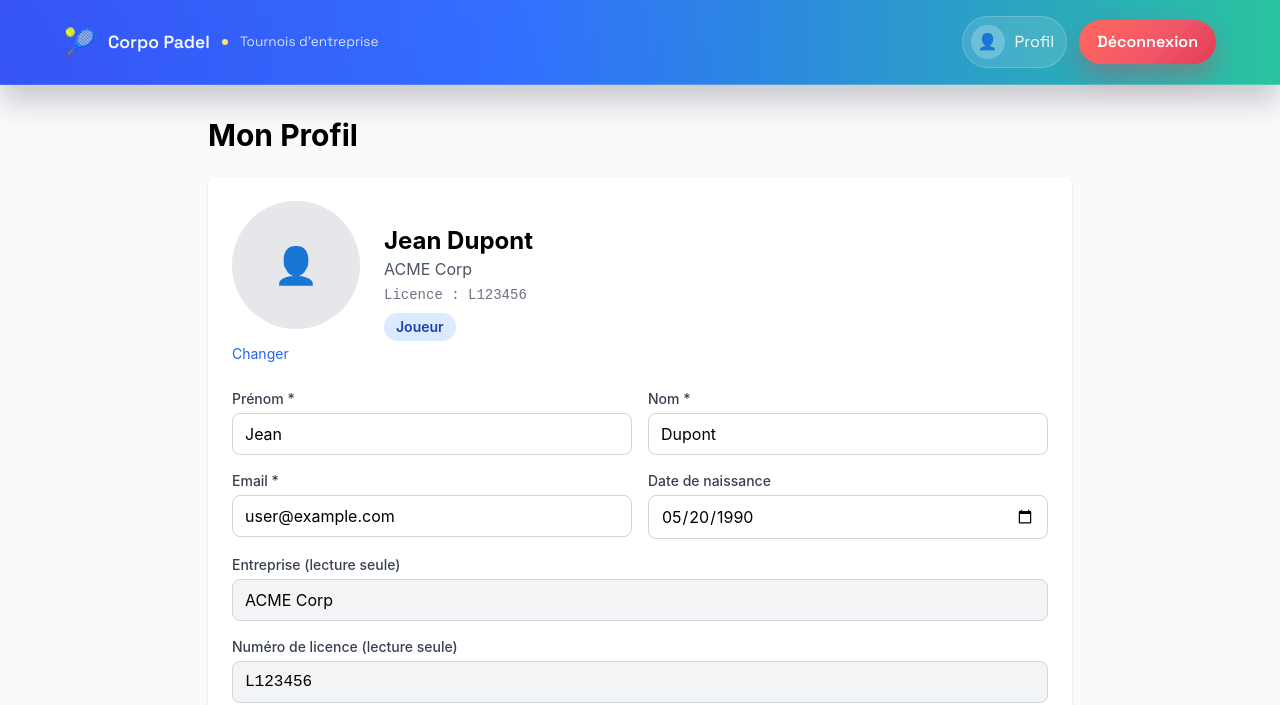
Profil › charge et met a jour le profil
Replace the text in the field below "Prénom *" with "Pierre". click: (432, 434)
box: [232,413,632,455]
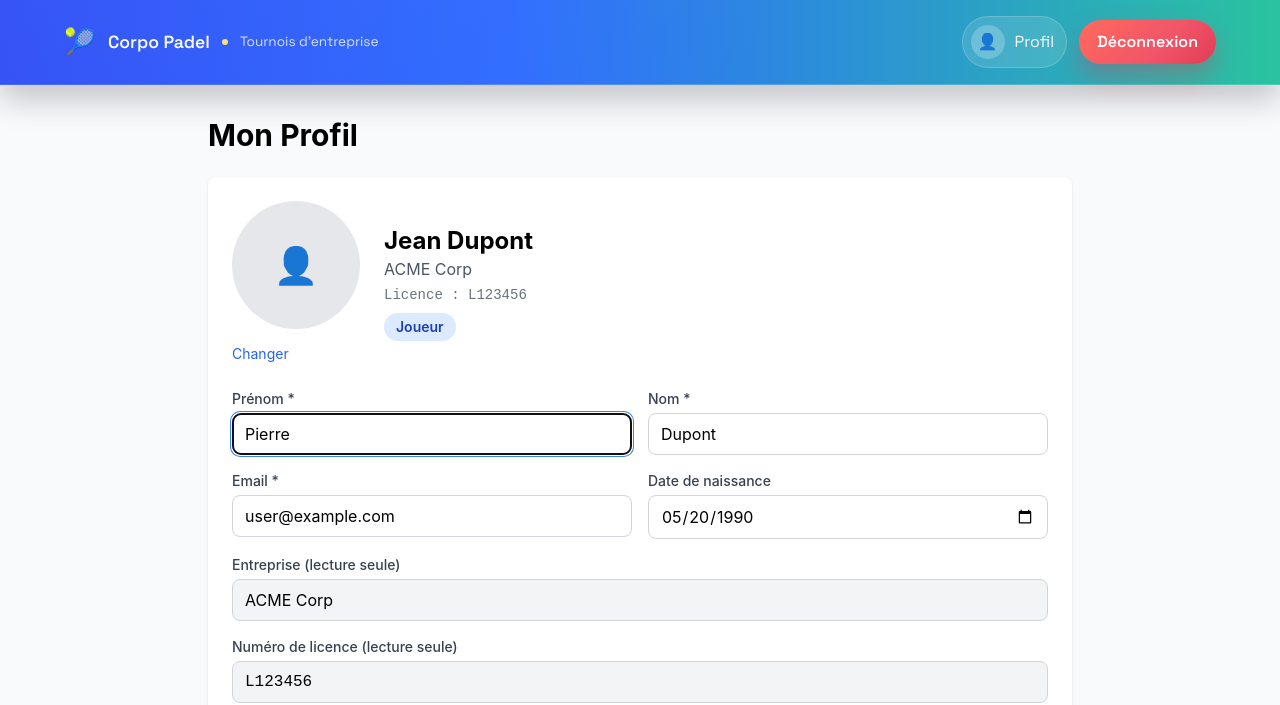
Replace the text in the 2nd field with "Martin". click: (848, 434)
box: [648,413,1048,455]
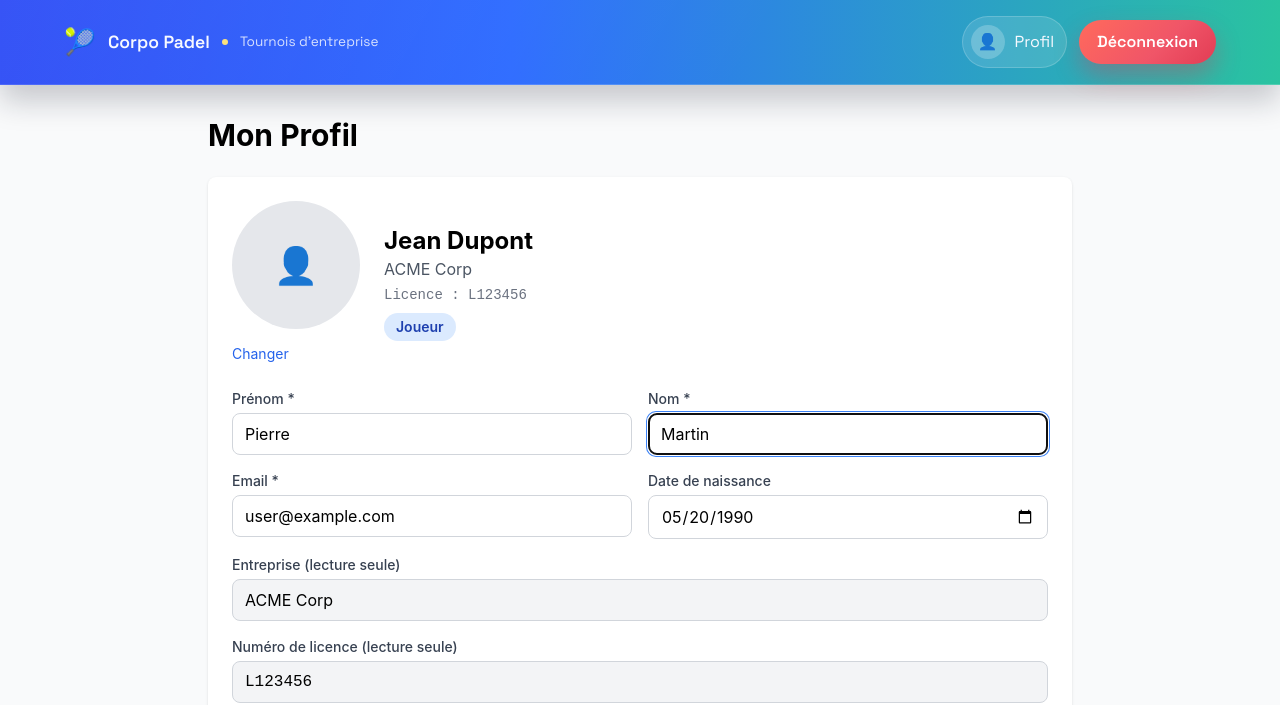
Replace the text in the field below "Email *" with "updated@example.com". click: (432, 516)
box: [232,495,632,537]
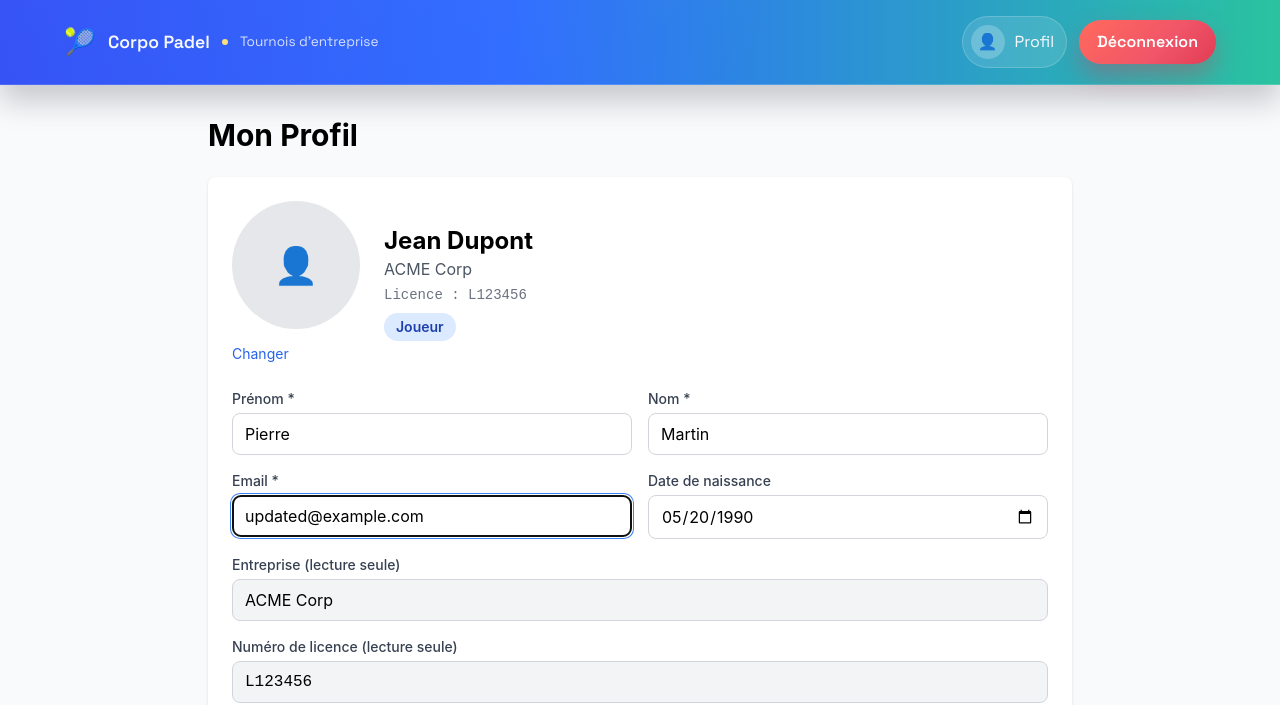
Scroll
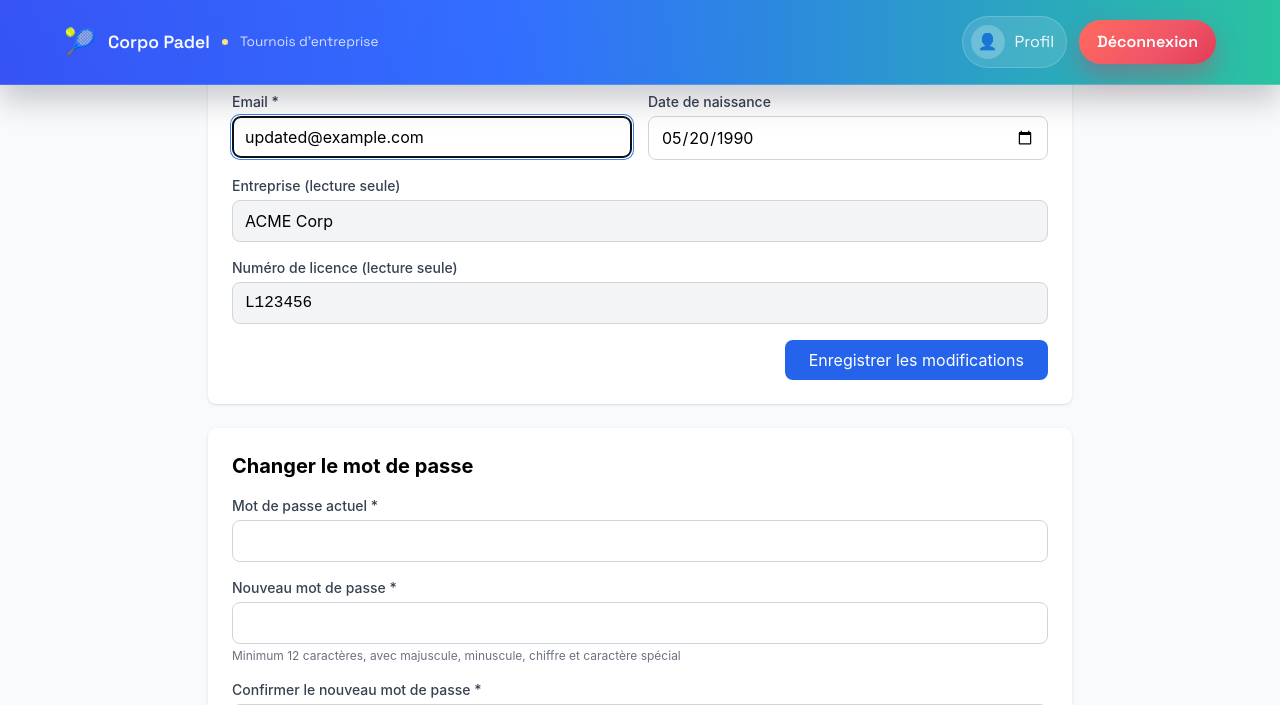
Click the button "Enregistrer les modifications". click: click(917, 360)
box: [785,340,1048,380]
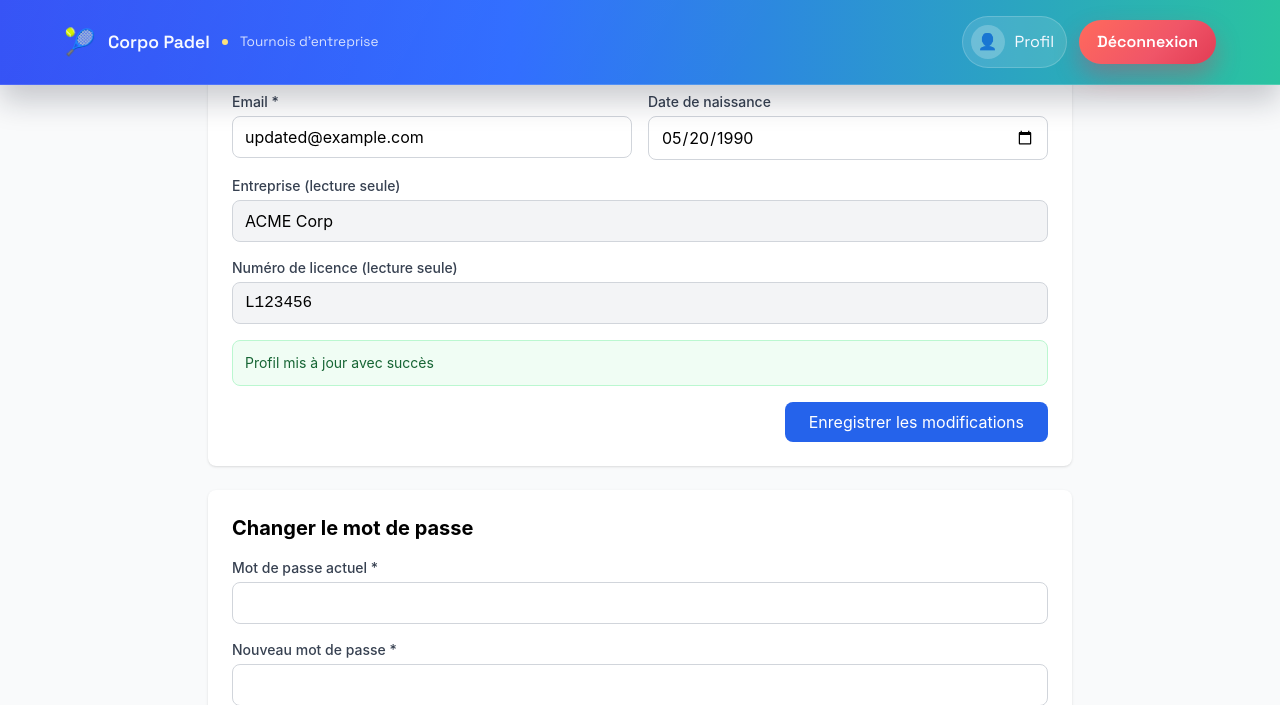
Now the text "Profil mis" is shown, box [245,354,434,371]
